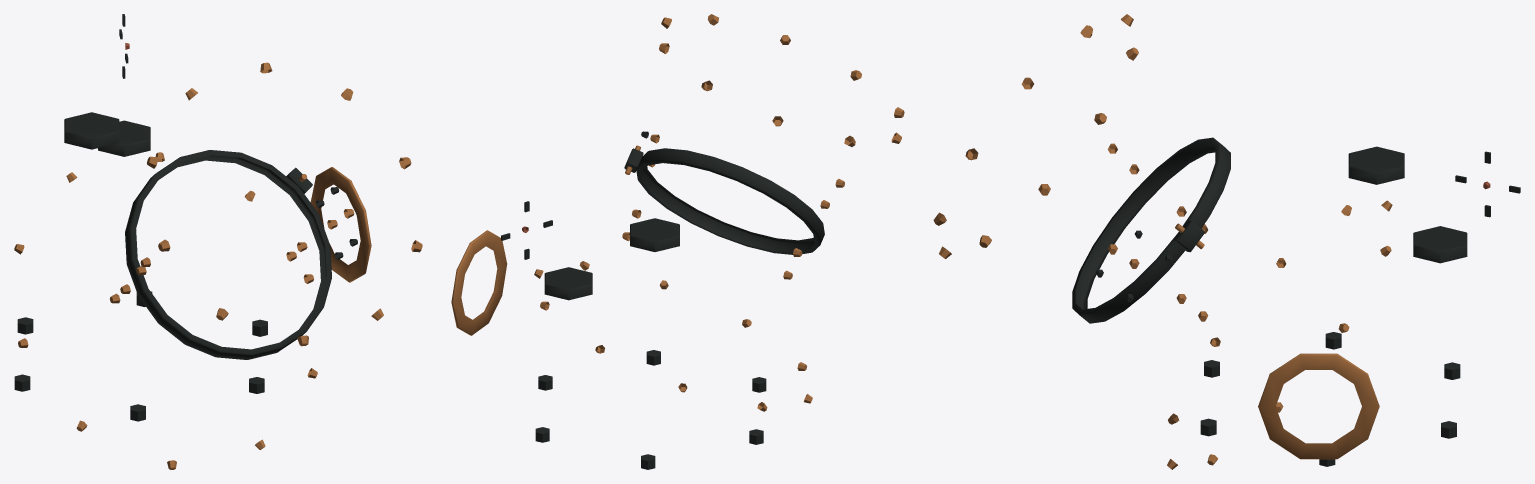
Rendered from cannon_launcher_detail2.glb.
The picture shows the model from 3 angles, left to right: view 1: azimuth 30°, elevation 25°; view 2: azimuth 150°, elevation 25°; view 3: azimuth 270°, elevation 25°; orthographic projection. The views are drawn at different scales.
Parts seen in each view (by area): view 1: Detail2; view 2: Detail2; view 3: Detail2.
Boxes of the visible parts, x1,y1,x2,y2 form: Detail2: (14,14,422,469); Detail2: (451,14,904,469); Detail2: (933,14,1520,469).
Size of the model in its own units: 6.98 by 7.9 by 10.15.
